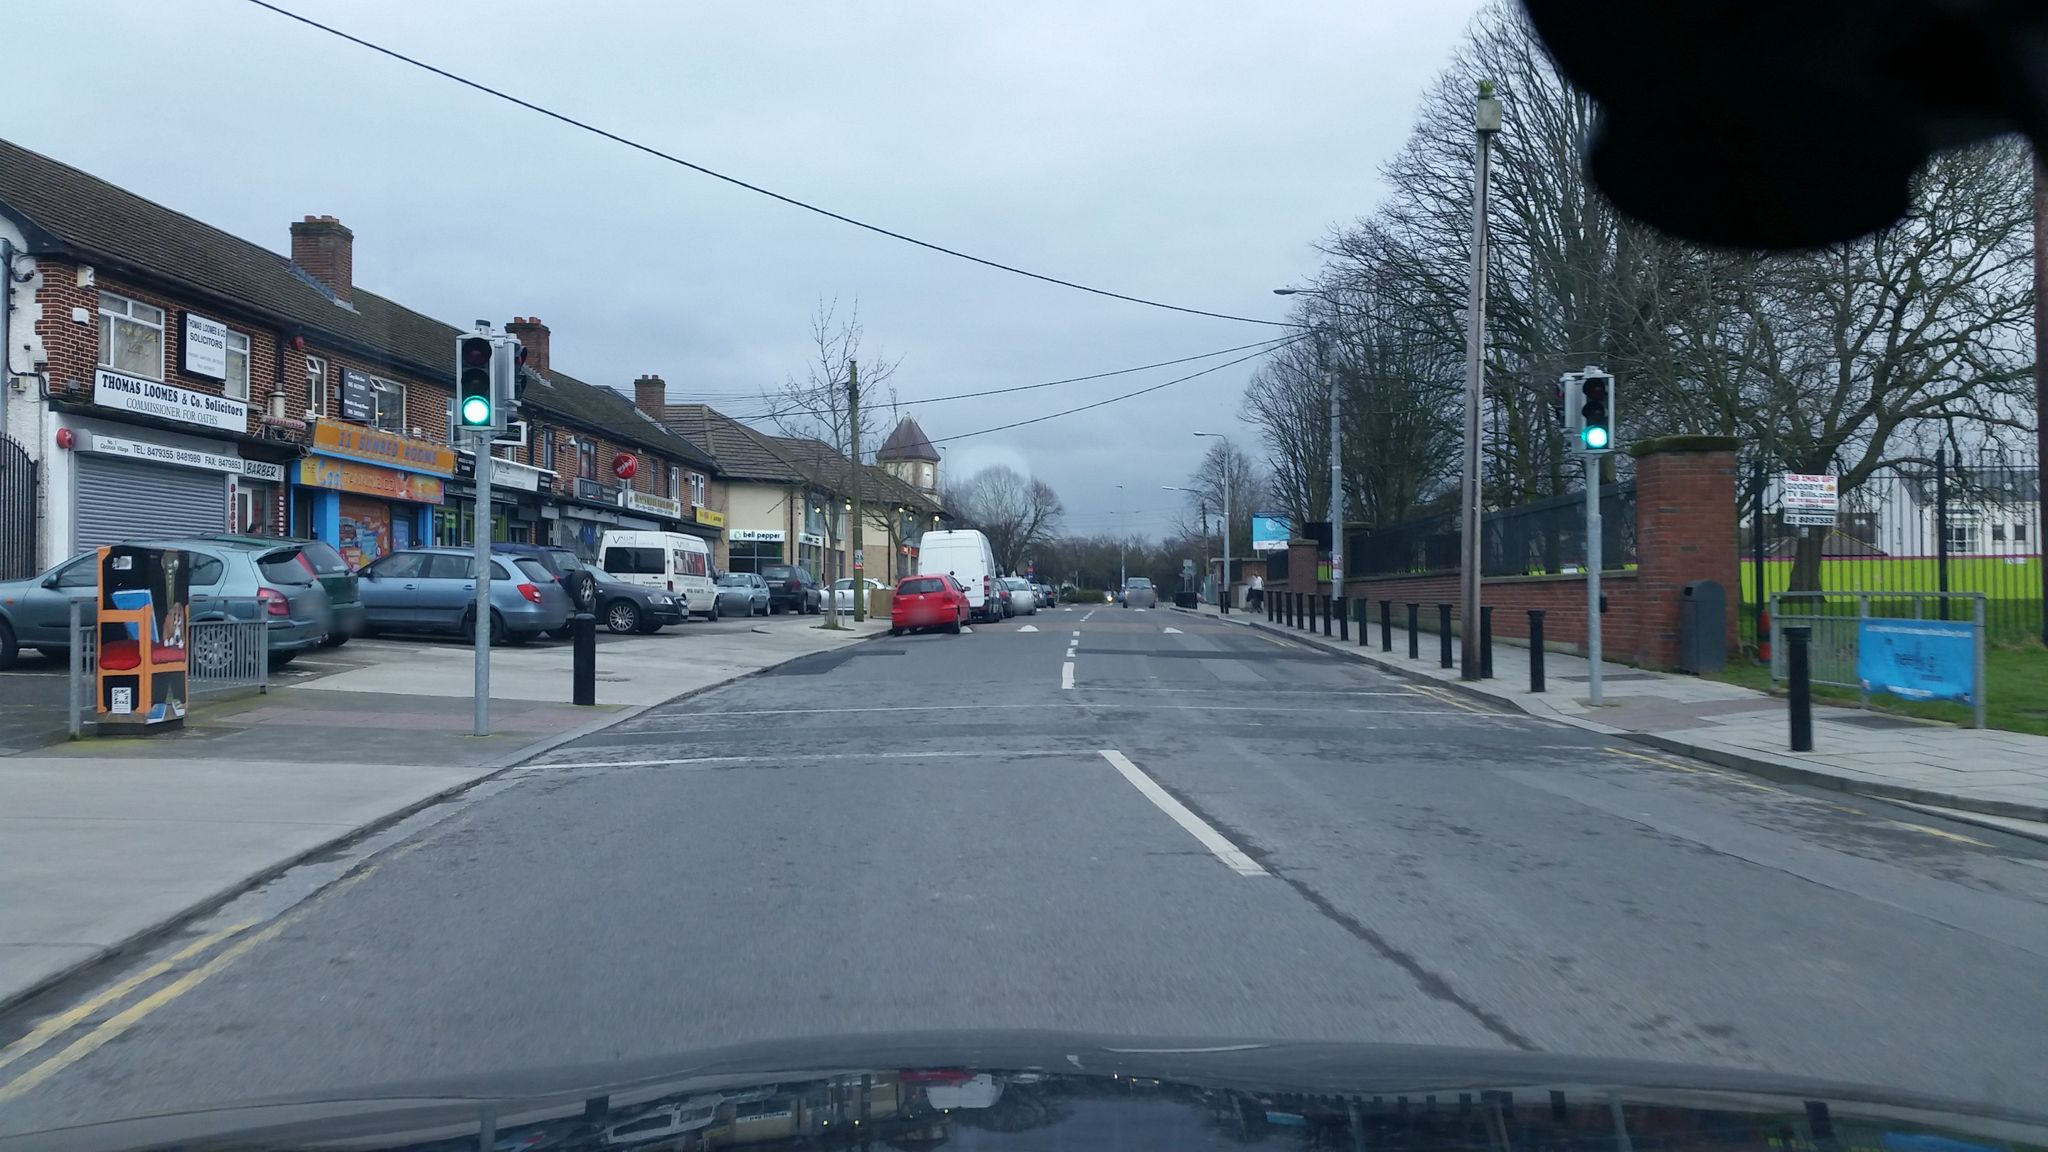vinyl banner: (1838, 596, 1980, 715)
